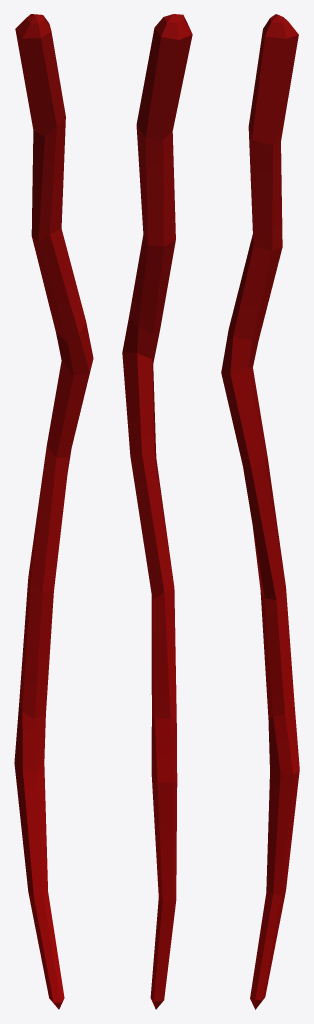
The model's file is SM_Env_Vines_04.glb.
3 views of the same model, side by side, from view 1: azimuth 90°, elevation 25°; view 2: azimuth 210°, elevation 25°; view 3: azimuth 270°, elevation 25° (orthographic).
Parts seen in each view (by area): view 1: SM_Env_Vines_04; view 2: SM_Env_Vines_04; view 3: SM_Env_Vines_04.
Boxes of the visible parts, bbox=[...] form: SM_Env_Vines_04: bbox=[14, 14, 93, 1009]; SM_Env_Vines_04: bbox=[122, 14, 192, 1009]; SM_Env_Vines_04: bbox=[221, 14, 299, 1009].
Size of the model in its own units: 0.2385 by 4.91 by 0.3527.
